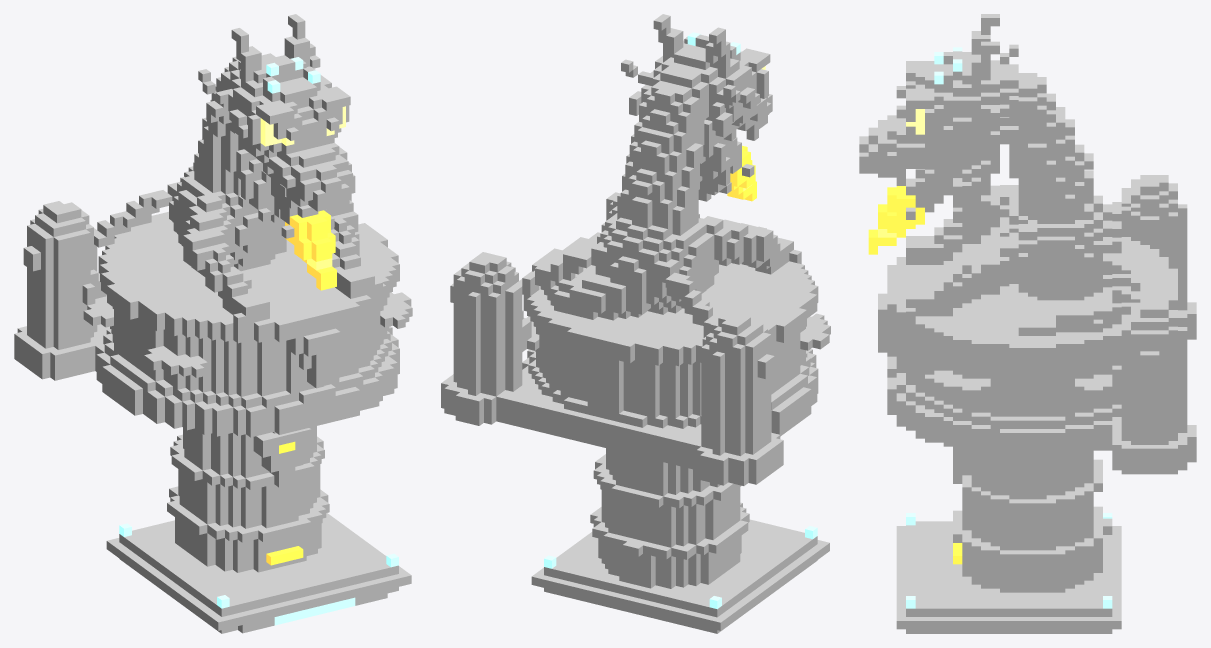
The model's file is FlamethrowerTurret_A_T5.fbx.
3 renders of one model, left to right at view 1: azimuth 30°, elevation 25°; view 2: azimuth 150°, elevation 25°; view 3: azimuth 270°, elevation 25°, orthographic. The views are drawn at different scales.
Parts seen in each view (by area): view 1: FlamethrowerTurretT5Gunmetal, FlamethrowerTurretT5Gold, FlamethrowerTurretT5WarnRedDark, FlamethrowerTurretT5StoneLight, FlamethrowerTurretT5Copper, FlamethrowerTurretT5Cream, FlamethrowerTurretT5SteelDark, FlamethrowerTurretT5Brass, FlamethrowerTurretT5FlameOrangeGlow, FlamethrowerTurretT5SteelLight, FlamethrowerTurretT5Rubber, FlamethrowerTurretT5AuroraCyanGlow (+3 smaller); view 2: FlamethrowerTurretT5Gunmetal, FlamethrowerTurretT5WarnRedDark, FlamethrowerTurretT5Gold, FlamethrowerTurretT5Copper, FlamethrowerTurretT5StoneLight, FlamethrowerTurretT5SteelDark, FlamethrowerTurretT5Rubber, FlamethrowerTurretT5Brass, FlamethrowerTurretT5Cream, FlamethrowerTurretT5SteelLight, FlamethrowerTurretT5FlameOrangeGlow, FlamethrowerTurretT5Amber (+1 smaller); view 3: FlamethrowerTurretT5Gunmetal, FlamethrowerTurretT5WarnRedDark, FlamethrowerTurretT5Gold, FlamethrowerTurretT5Copper, FlamethrowerTurretT5StoneLight, FlamethrowerTurretT5SteelDark, FlamethrowerTurretT5Cream, FlamethrowerTurretT5Brass, FlamethrowerTurretT5Rubber, FlamethrowerTurretT5SteelLight, FlamethrowerTurretT5FlameOrangeGlow, FlamethrowerTurretT5EyeWhite (+2 smaller).
Boxes of the visible parts, <box> form: FlamethrowerTurretT5Gunmetal: <box>14,86,399,633</box>; FlamethrowerTurretT5Gold: <box>14,47,411,630</box>; FlamethrowerTurretT5WarnRedDark: <box>169,53,369,314</box>; FlamethrowerTurretT5StoneLight: <box>119,513,398,616</box>; FlamethrowerTurretT5Copper: <box>27,198,351,349</box>; FlamethrowerTurretT5Cream: <box>91,14,382,334</box>; FlamethrowerTurretT5SteelDark: <box>178,464,387,633</box>; FlamethrowerTurretT5Brass: <box>98,214,398,333</box>; FlamethrowerTurretT5FlameOrangeGlow: <box>266,210,336,565</box>; FlamethrowerTurretT5SteelLight: <box>83,292,412,377</box>; FlamethrowerTurretT5Rubber: <box>90,151,273,253</box>; FlamethrowerTurretT5AuroraCyanGlow: <box>119,57,398,625</box>; FlamethrowerTurretT5Gunmetal: <box>441,40,818,633</box>; FlamethrowerTurretT5WarnRedDark: <box>540,44,789,320</box>; FlamethrowerTurretT5Gold: <box>441,34,829,630</box>; FlamethrowerTurretT5Copper: <box>453,252,771,456</box>; FlamethrowerTurretT5StoneLight: <box>544,519,817,617</box>; FlamethrowerTurretT5SteelDark: <box>601,487,740,547</box>; FlamethrowerTurretT5Rubber: <box>515,125,736,337</box>; FlamethrowerTurretT5Brass: <box>530,235,818,357</box>; FlamethrowerTurretT5Cream: <box>522,14,801,340</box>; FlamethrowerTurretT5SteelLight: <box>523,313,830,350</box>; FlamethrowerTurretT5FlameOrangeGlow: <box>727,145,756,201</box>; FlamethrowerTurretT5Amber: <box>629,85,732,137</box>; FlamethrowerTurretT5Gunmetal: <box>887,61,1196,633</box>; FlamethrowerTurretT5WarnRedDark: <box>859,56,1140,335</box>; FlamethrowerTurretT5Gold: <box>887,47,1196,629</box>; FlamethrowerTurretT5Copper: <box>1121,175,1187,444</box>; FlamethrowerTurretT5StoneLight: <box>906,521,1112,616</box>; FlamethrowerTurretT5SteelDark: <box>962,496,1093,550</box>; FlamethrowerTurretT5Cream: <box>896,14,1027,320</box>; FlamethrowerTurretT5Brass: <box>887,227,1177,356</box>; FlamethrowerTurretT5Rubber: <box>925,143,1140,314</box>; FlamethrowerTurretT5SteelLight: <box>925,370,1121,398</box>; FlamethrowerTurretT5FlameOrangeGlow: <box>868,186,962,564</box>; FlamethrowerTurretT5EyeWhite: <box>887,86,971,219</box>.
Size of the model in its own units: 500 by 825 by 450.
